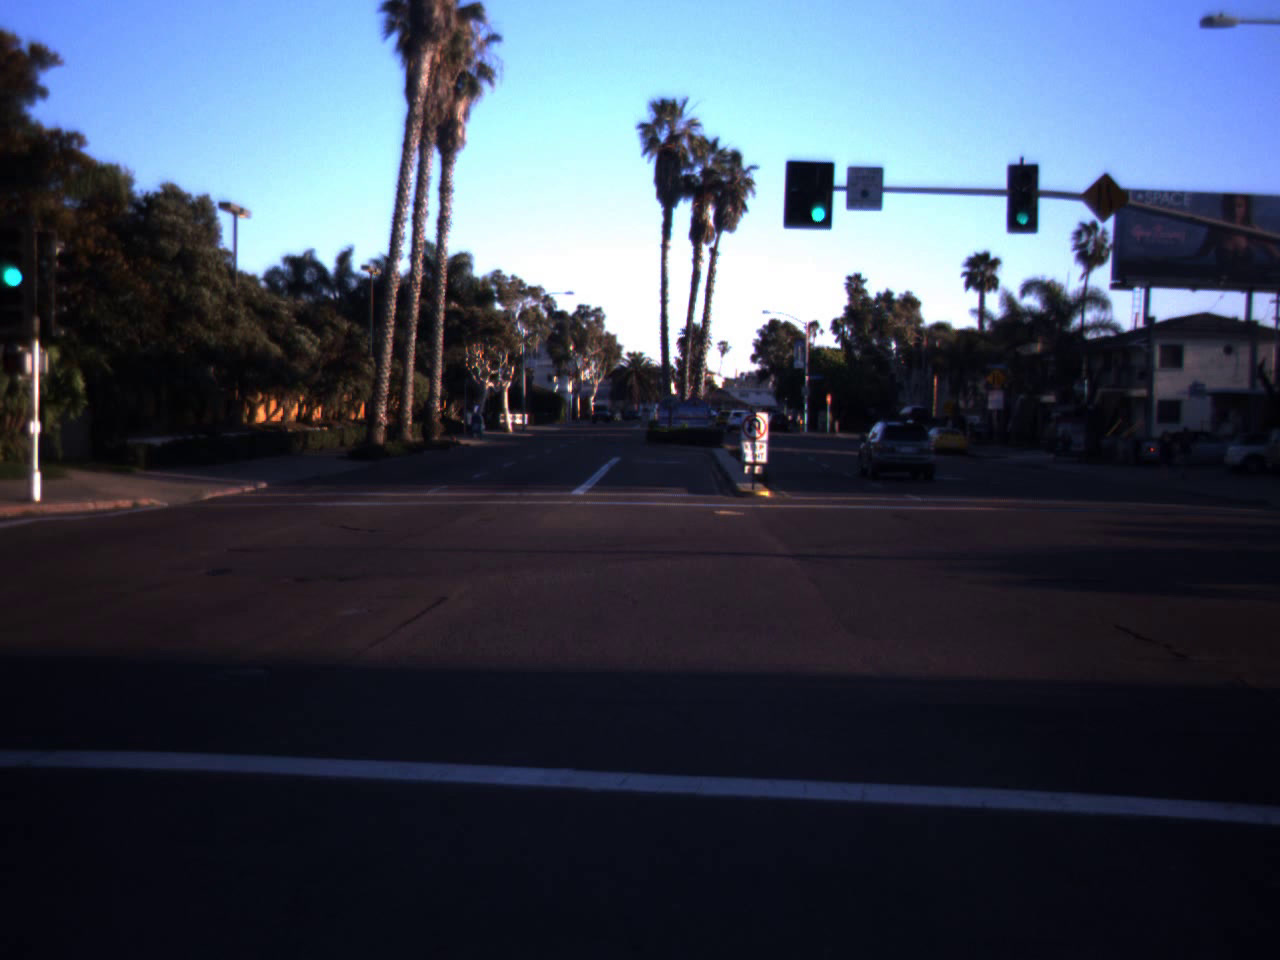go: (0, 209, 38, 294), (800, 162, 836, 227), (1009, 188, 1036, 228)
